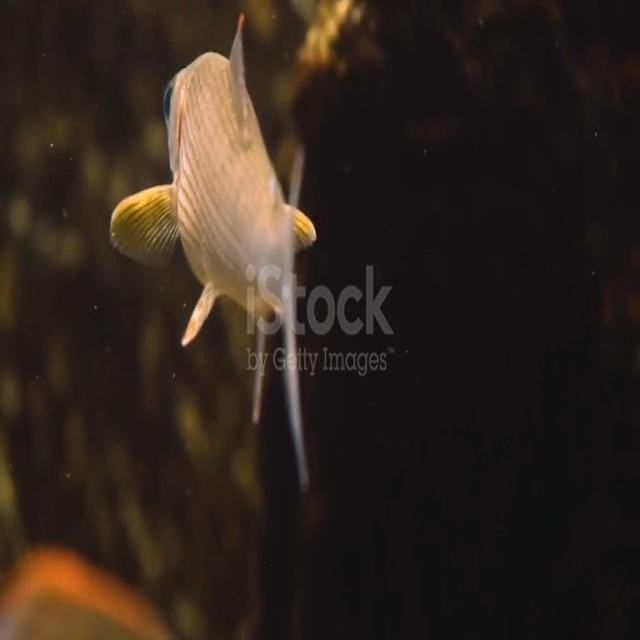fish: (111, 6, 318, 473)
